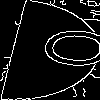O: (25, 25, 100, 70)
